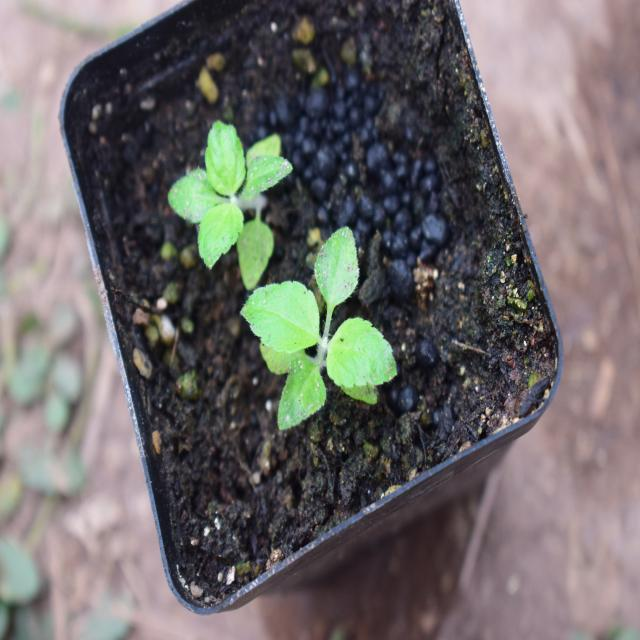billygoat_weed: (231, 236, 412, 435), (174, 113, 288, 293)
